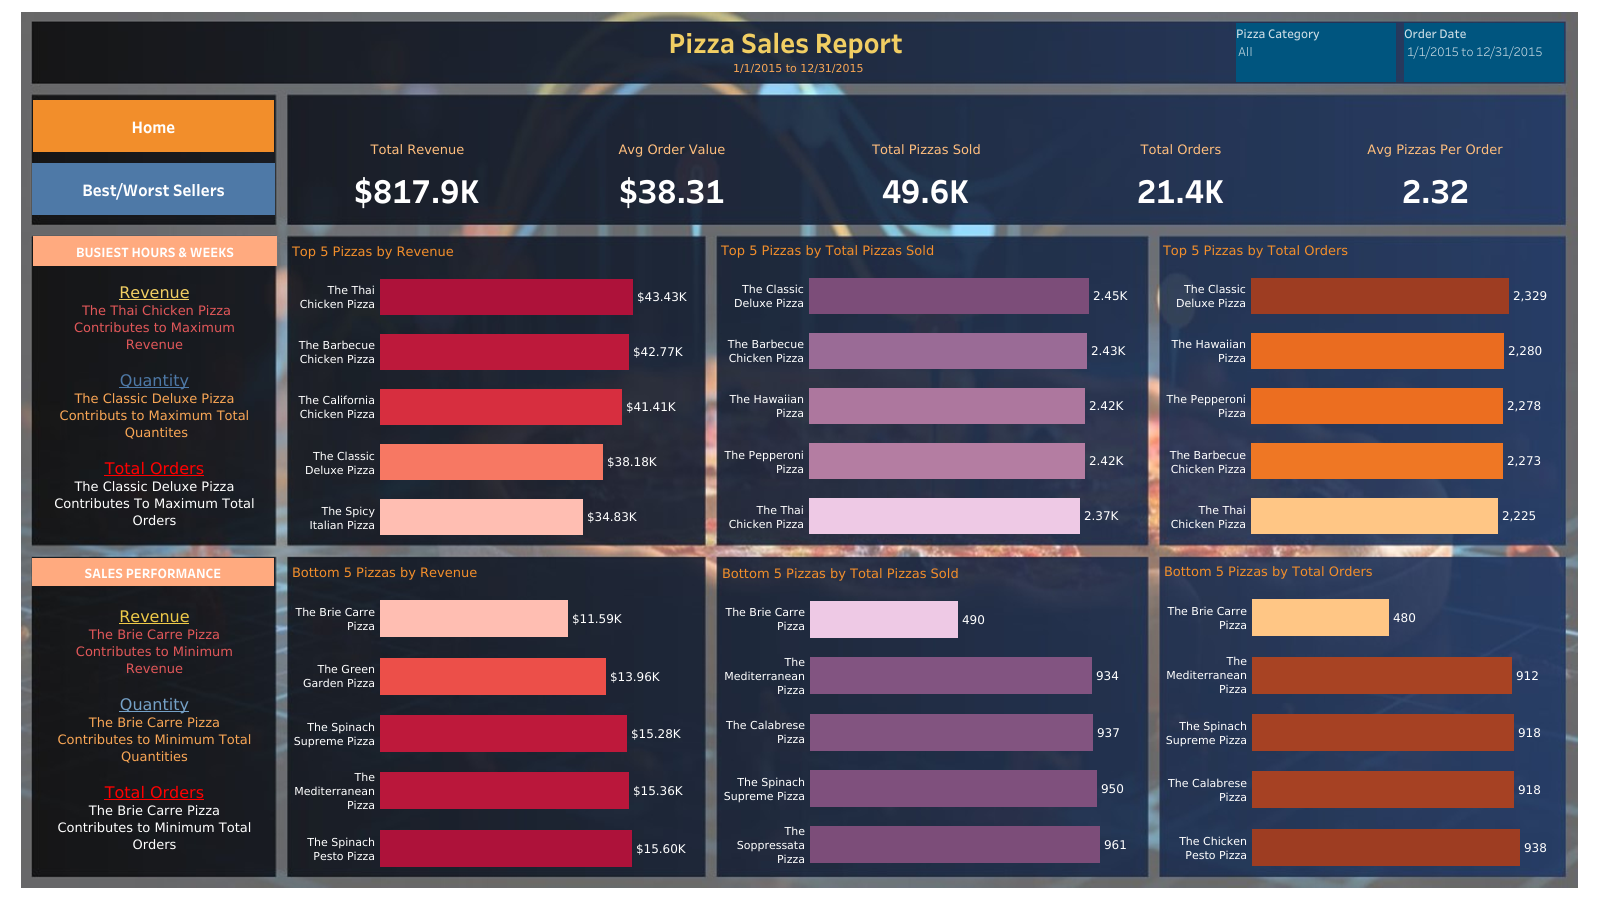

This screenshot's page, from the dashboard's own definition file:
{"tool":"tableau","page":{"name":"Best & Worst Sellers","canvas":[1600,900],"ordinal":0},"visuals":[{"type":"image","param":"Image/Pizza Tableau 2.jpg","box":[8,8,1584,884]},{"type":"text","box":[666,23,240,37]},{"type":"filter","title":"Date Range","param":"[federated.1pr4o1n1k5imic1a7q5us1xuu4pz].[none:pizza_category:nk]","box":[1236,23,160,59]},{"type":"filter","title":"Date Range","param":"[federated.1pr4o1n1k5imic1a7q5us1xuu4pz].[none:order_date:qk]","box":[1404,23,160,59]},{"type":"worksheet","title":"Date Range","mark":"Automatic","box":[663,57,272,23]},{"type":"dashboard-object","box":[33,100,241,52]},{"type":"worksheet","title":"KPI","mark":"Automatic","box":[290,118,1273,105]},{"type":"dashboard-object","box":[32,163,243,52]},{"type":"text","box":[33,236,244,30]},{"type":"worksheet","title":"Top 5 Pizzas by Total Pizzas Sold","mark":"Automatic","rows":["pizza_name"],"cols":["Calculation_0172368085467139"],"box":[717,236,430,308]},{"type":"worksheet","title":"Top 5 Pizzas by Total Orders","mark":"Automatic","rows":["pizza_name"],"cols":["Calculation_0172368085233665"],"box":[1159,236,406,308]},{"type":"worksheet","title":"Top 5 Pizzas by Revenue","mark":"Automatic","rows":["pizza_name"],"cols":["Calculation_0172368084725760"],"box":[288,237,417,308]},{"type":"text","box":[33,267,243,277]},{"type":"worksheet","title":"Bottom 5 Pizzas by Total Orders ","mark":"Automatic","rows":["pizza_name"],"cols":["Calculation_0172368085233665"],"box":[1160,557,404,319]},{"type":"text","box":[32,558,242,28]},{"type":"worksheet","title":"Bottom 5 Pizzas by Revenue ","mark":"Automatic","rows":["pizza_name"],"cols":["Calculation_0172368084725760"],"box":[288,558,416,319]},{"type":"worksheet","title":"Bottom 5 Pizzas by Total Pizzas Sold ","mark":"Automatic","rows":["pizza_name"],"cols":["Calculation_0172368085467139"],"box":[718,559,428,314]},{"type":"text","box":[35,592,239,275]}]}

Visuals, with their boxes in screenshot pixels (x1, y1, x2, y2), scaled from the page's 1600x900 canvas onto the 1599x899 screenshot:
image: crop(8, 8, 1591, 891)
text: crop(666, 23, 905, 60)
"Date Range" filter: crop(1235, 23, 1395, 82)
"Date Range" filter: crop(1403, 23, 1563, 82)
"Date Range" worksheet: crop(663, 57, 934, 80)
dashboard-object: crop(33, 100, 274, 152)
"KPI" worksheet: crop(290, 118, 1562, 223)
dashboard-object: crop(32, 163, 275, 215)
text: crop(33, 236, 277, 266)
"Top 5 Pizzas by Total Pizzas Sold" worksheet: crop(717, 236, 1146, 543)
"Top 5 Pizzas by Total Orders" worksheet: crop(1158, 236, 1564, 543)
"Top 5 Pizzas by Revenue" worksheet: crop(288, 237, 705, 544)
text: crop(33, 267, 276, 543)
"Bottom 5 Pizzas by Total Orders " worksheet: crop(1159, 556, 1563, 875)
text: crop(32, 557, 274, 585)
"Bottom 5 Pizzas by Revenue " worksheet: crop(288, 557, 704, 876)
"Bottom 5 Pizzas by Total Pizzas Sold " worksheet: crop(718, 558, 1145, 872)
text: crop(35, 591, 274, 866)
